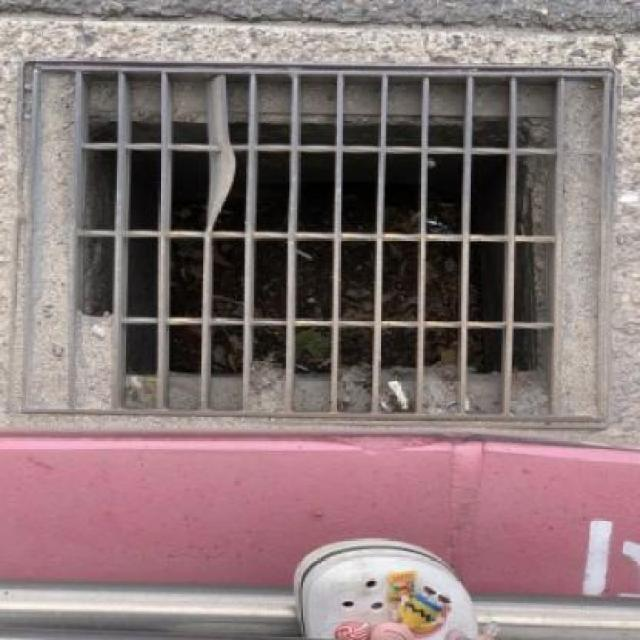Drain Hole: (6, 47, 597, 436)
